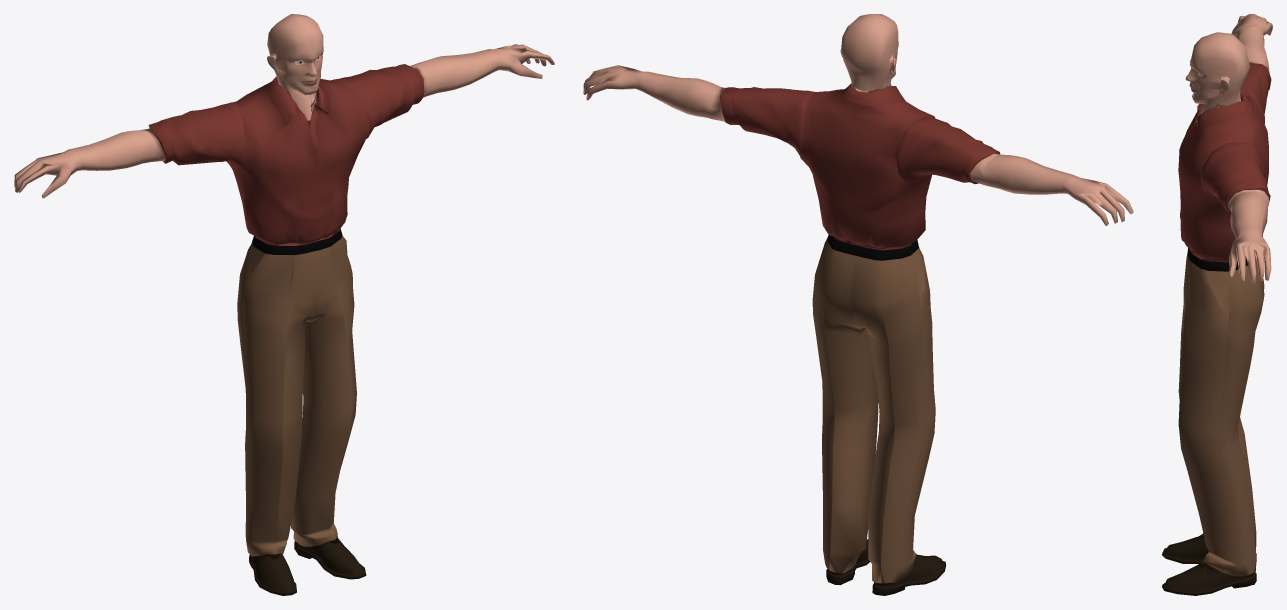
File: man.obj
The picture shows the model from 3 angles, left to right: view 1: azimuth 30°, elevation 25°; view 2: azimuth 150°, elevation 25°; view 3: azimuth 270°, elevation 25°; orthographic projection. The views are drawn at different scales.
Size of the model in its own units: 0.6991 by 0.6867 by 0.1279.
